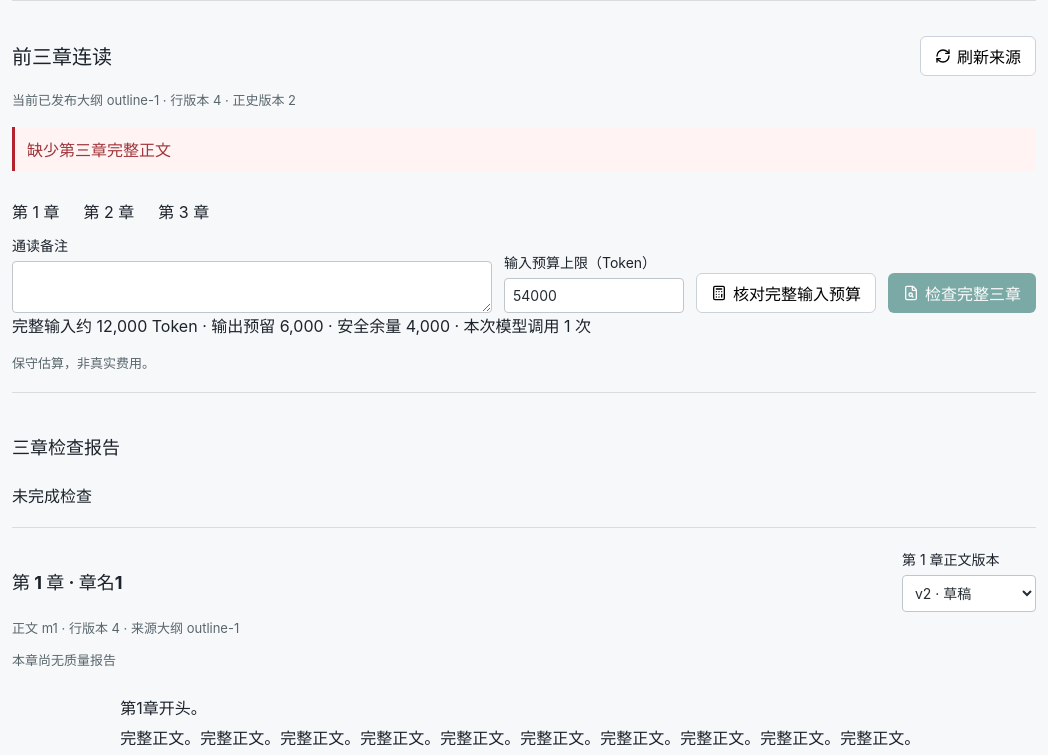
Test: FirstThreeChaptersPanel › disables incomplete sources and insufficient author or context budget
Expected: the button "检查完整三章" is disabled, [888,273,1036,313]
Click the button "刷新来源": (978,56) [920,36,1036,76]
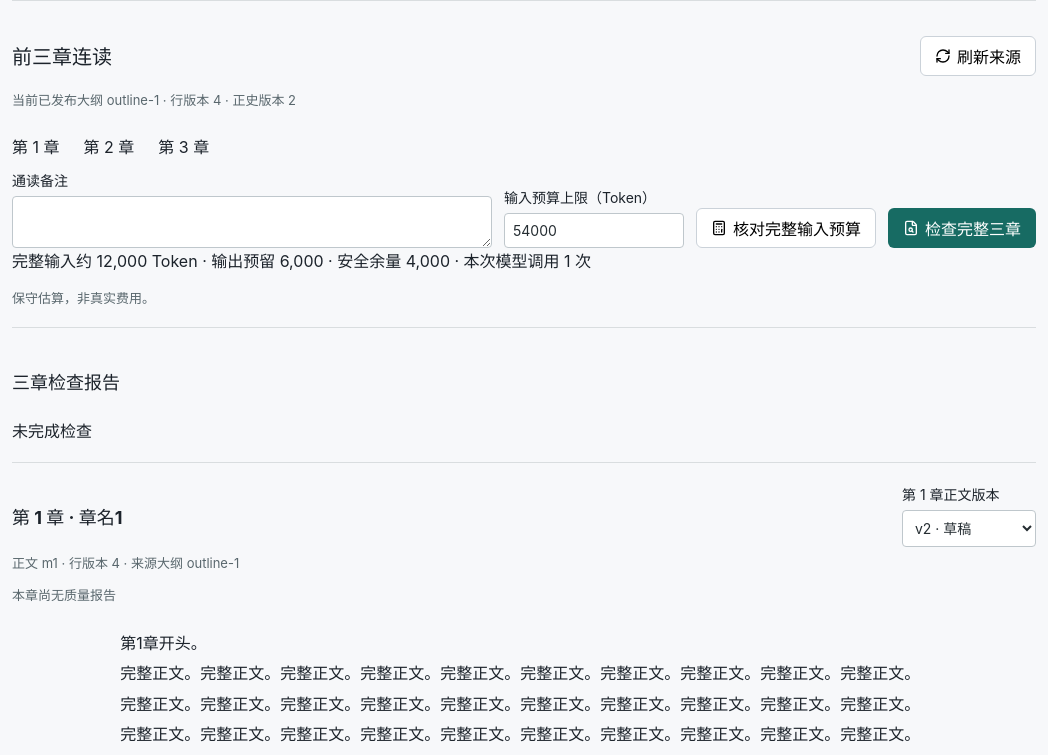
Replace the text in the number field labelled "输入预算上限（Token）" with "1": (594,230) [504,213,684,248]
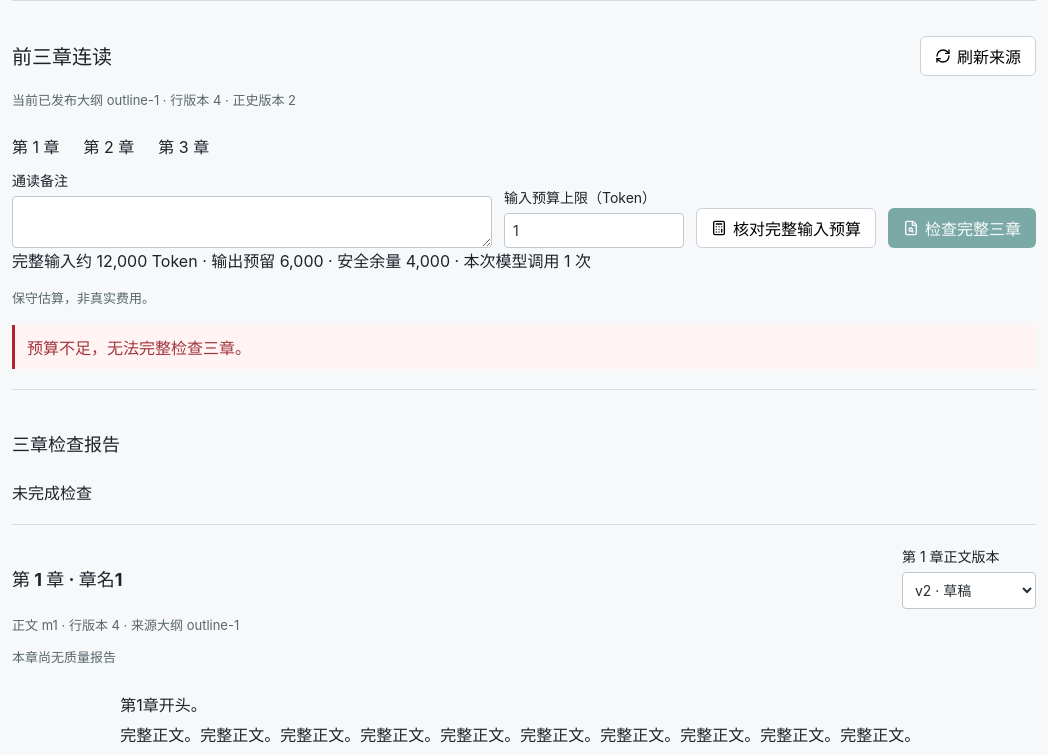
Expected: the button "检查完整三章" is disabled, [888,208,1036,248]
Expected: the text "预算不足" is shown, [27,338,251,358]
